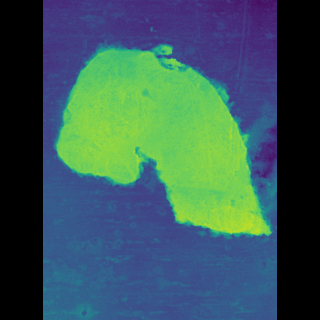Loch: (79, 37, 245, 247)
